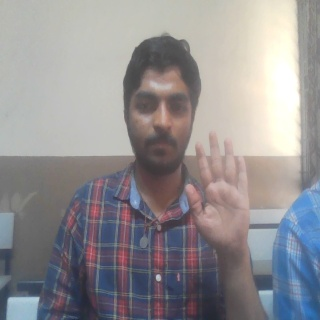Face: (119, 32, 196, 180)
Hello: (184, 129, 252, 259)
